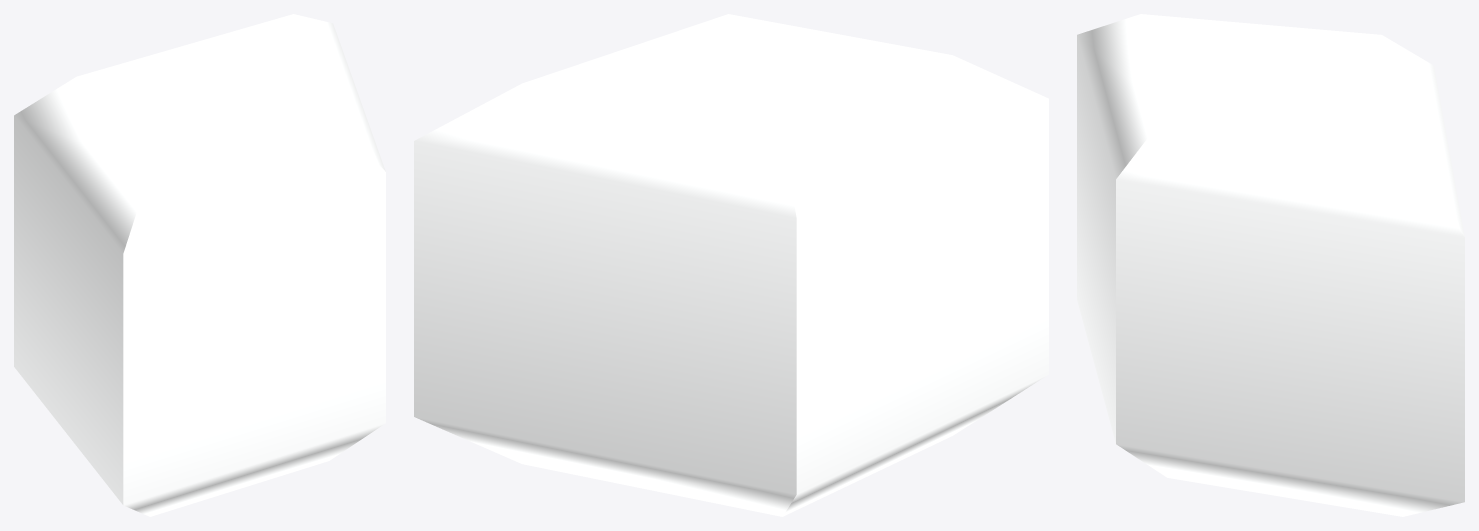
The model's file is ice_floe_small_006.glb.
3 views of the same model, side by side, from view 1: azimuth 30°, elevation 25°; view 2: azimuth 150°, elevation 25°; view 3: azimuth 270°, elevation 25° (orthographic). The views are drawn at different scales.
Visible parts, largest first — view 1: ice_floe_small_006; view 2: ice_floe_small_006; view 3: ice_floe_small_006.
Boxes of the visible parts, <box> form: ice_floe_small_006: <box>14,14,385,516</box>; ice_floe_small_006: <box>414,14,1048,516</box>; ice_floe_small_006: <box>1077,14,1464,516</box>.
Size of the model in its own units: 0.8279 by 0.6962 by 0.67.
1 material, 1 textured.
